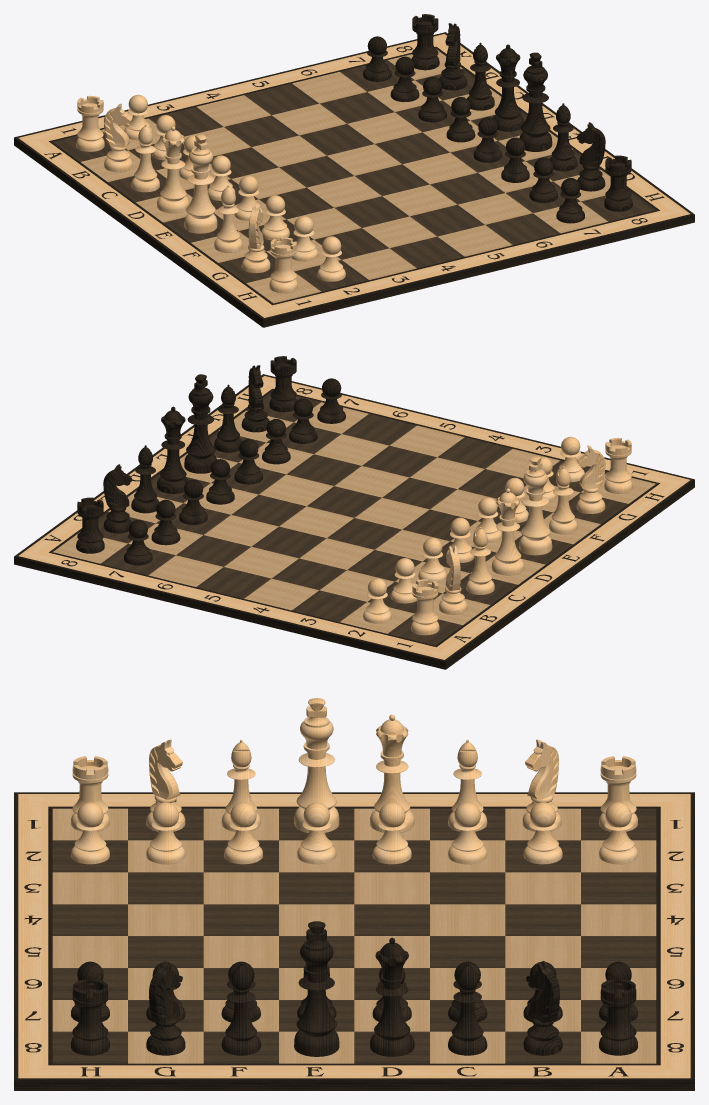
Rendered from chess.glb.
The picture shows the model from 3 angles, top to bottom: view 1: azimuth 30°, elevation 25°; view 2: azimuth 150°, elevation 25°; view 3: azimuth 270°, elevation 25°; orthographic projection. The views are drawn at different scales.
Parts seen in each view (by area): view 1: Material2 (×95); view 2: Material2 (×95); view 3: Material2 (×114).
Part boxes in pixels (x1=…): Material2 (×95): x1=14, y1=23, x2=694, y2=327; Material2 (×95): x1=14, y1=365, x2=694, y2=669; Material2 (×114): x1=14, y1=717, x2=694, y2=1090.
Bounding box in the file's own units: 3.16 × 0.6938 × 3.16.
Materials: 5 (4 with a texture image).
